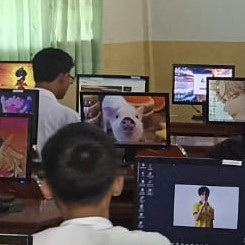monitor: (132, 157, 245, 242), (77, 91, 170, 147), (171, 64, 235, 107), (0, 88, 39, 146), (0, 113, 32, 183), (206, 77, 245, 126)
